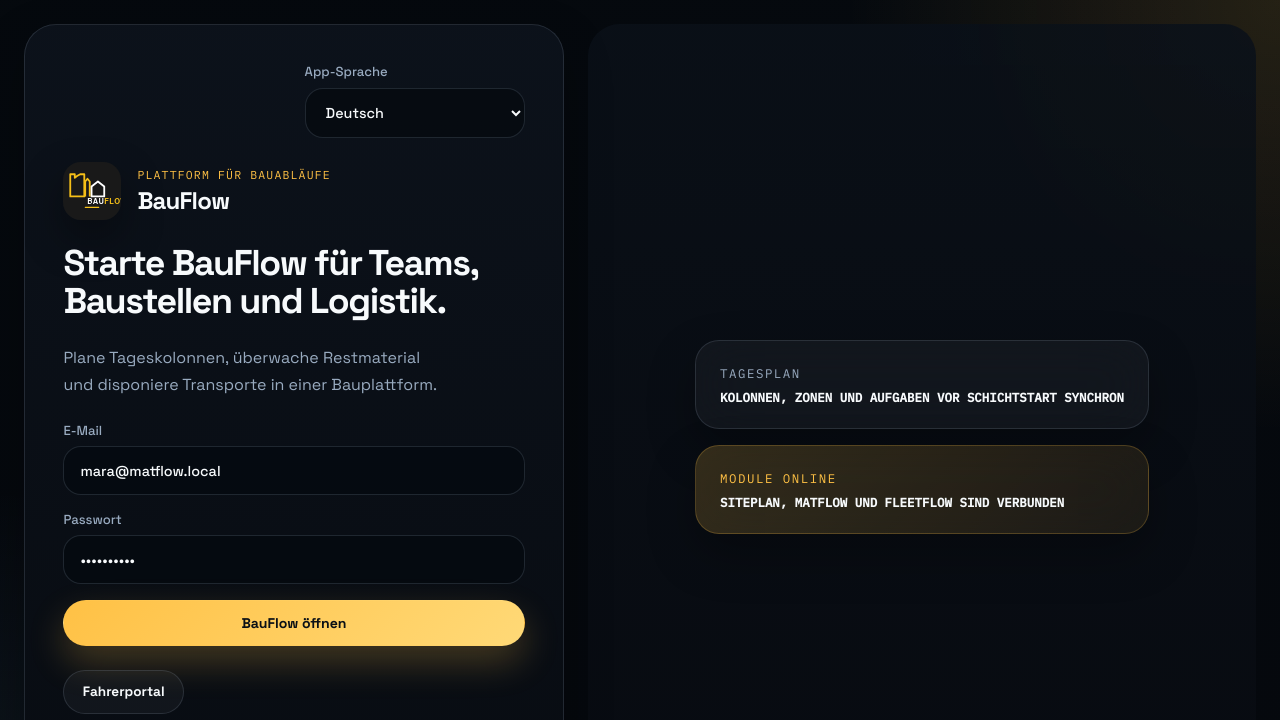
it: App login smoke tests › switches the login language and persists the selection
Expected: the heading "Starte BauFlow für Teams, Baustellen und Logistik." is shown, left=63, top=244, right=525, bottom=320
Select "English" in the dropdown labelled "App-Sprache" at (415, 113), box left=305, top=88, right=525, bottom=138
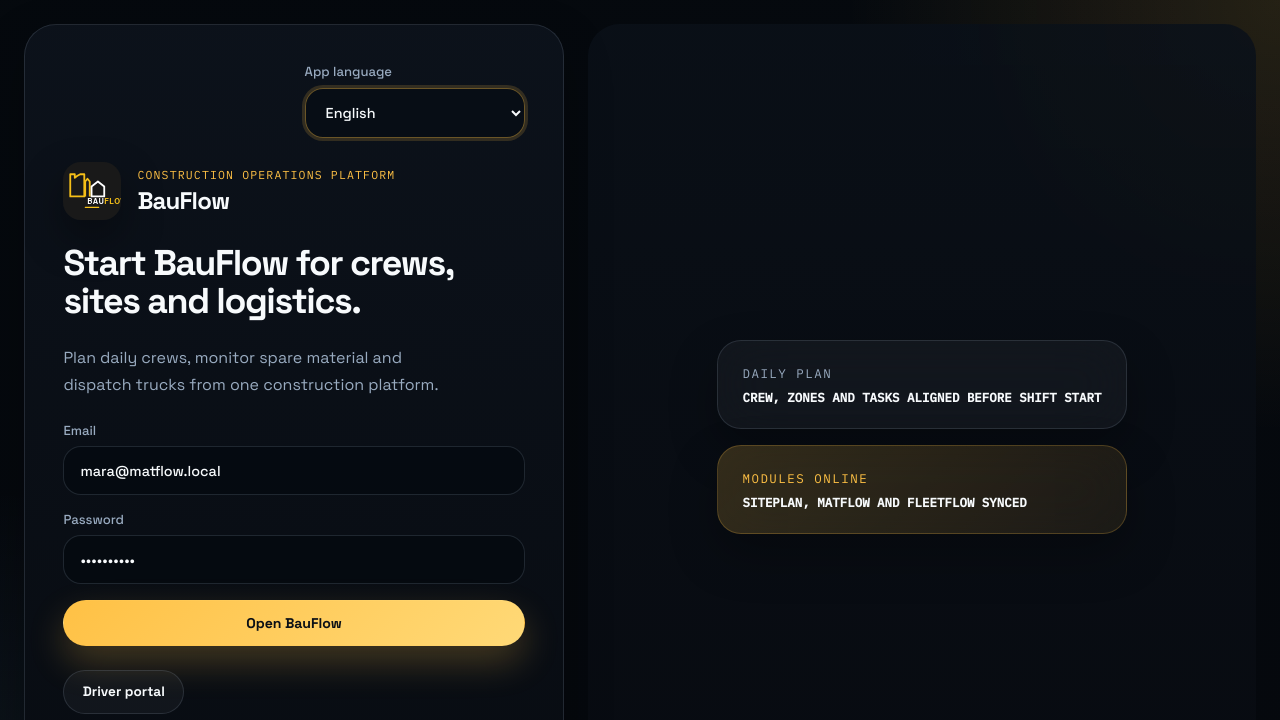
Expected: the heading "Start BauFlow for crews, sites and logistics." is shown, left=63, top=240, right=453, bottom=323
